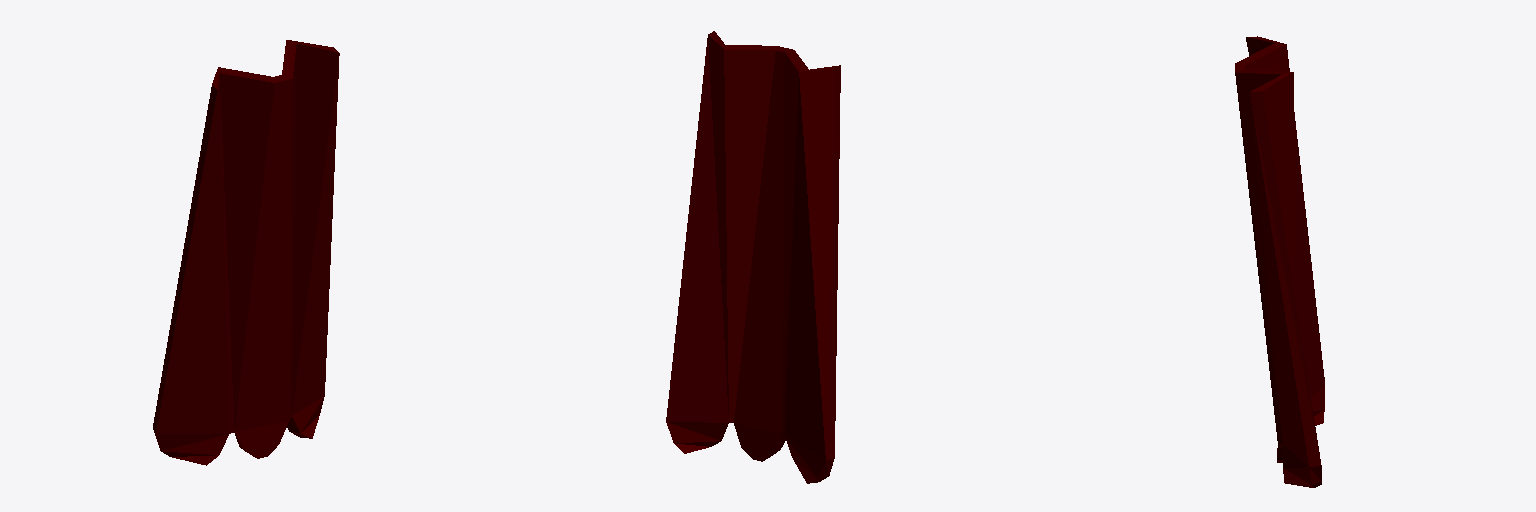
The model's file is Curtain.obj.
3 views of the same model, side by side, from view 1: azimuth 30°, elevation 25°; view 2: azimuth 150°, elevation 25°; view 3: azimuth 270°, elevation 25° (orthographic).
Visible parts, largest first — view 1: Plane; view 2: Plane; view 3: Plane.
Part boxes in pixels (bbox=[...]): Plane: bbox=[153, 40, 339, 465]; Plane: bbox=[666, 31, 840, 483]; Plane: bbox=[1235, 36, 1324, 487].
Bounding box in the file's own units: 5 × 11.58 × 2.35.